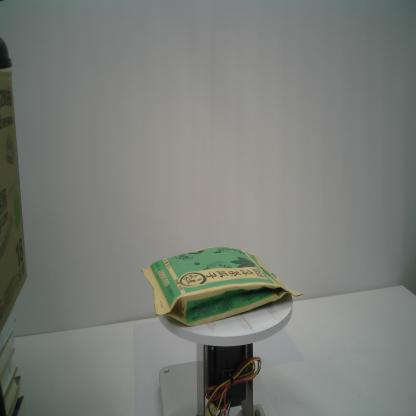Dried Food: (140, 245, 304, 328)
